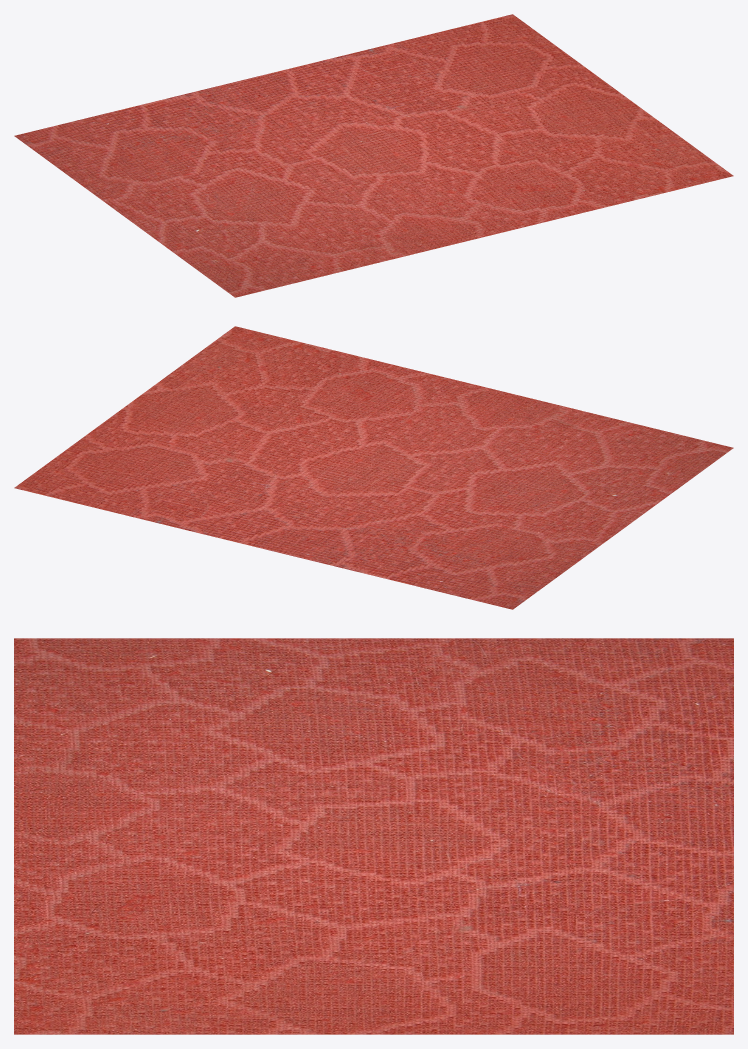
The model's file is Scp522.glb.
3 renders of one model, top to bottom at view 1: azimuth 30°, elevation 25°; view 2: azimuth 150°, elevation 25°; view 3: azimuth 270°, elevation 25°, orthographic. The views are drawn at different scales.
Visible parts, largest first — view 1: Plane; view 2: Plane; view 3: Plane.
Part boxes in pixels (x1,y1,x2,y2): Plane: (14, 14, 733, 297); Plane: (14, 326, 733, 609); Plane: (14, 638, 733, 1034).
Size of the model in its own units: 3.5 by 0 by 2.69.
1 material, 1 textured.
